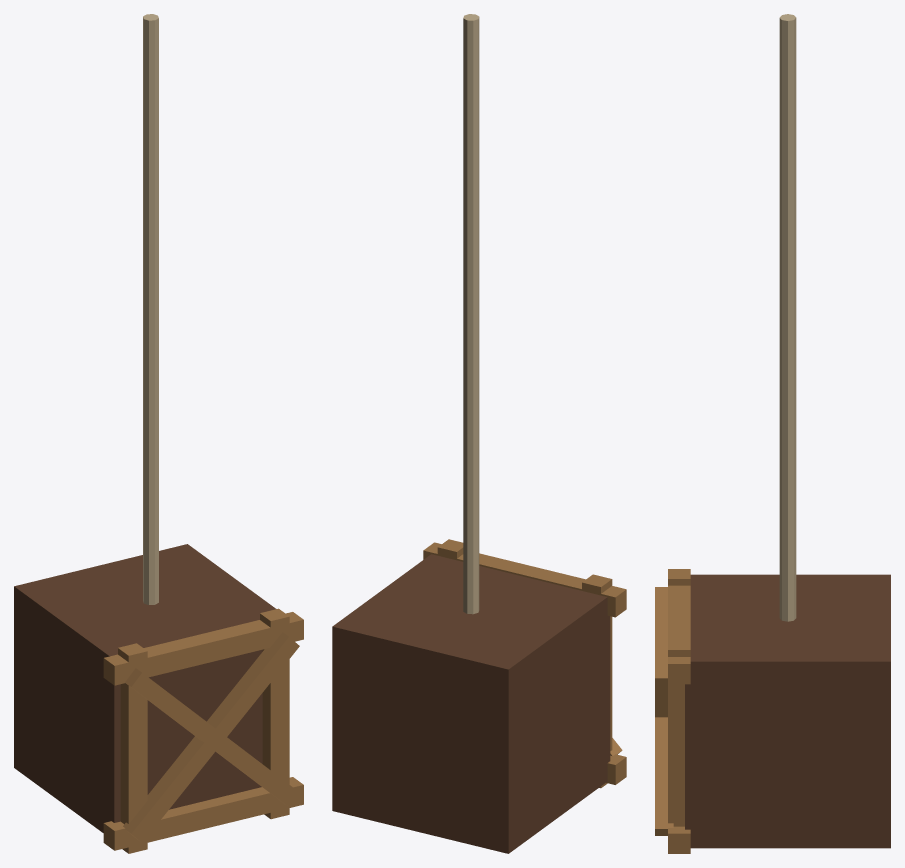
File: PirateCove_CargoSwingWeight_Standard.glb
The picture shows the model from 3 angles, left to right: view 1: azimuth 30°, elevation 25°; view 2: azimuth 150°, elevation 25°; view 3: azimuth 270°, elevation 25°; orthographic projection. The views are drawn at different scales.
Visible parts, largest first — view 1: PirateCove_CargoSwingWeight_Standard; view 2: PirateCove_CargoSwingWeight_Standard; view 3: PirateCove_CargoSwingWeight_Standard.
Part boxes in pixels (bbox=[...]): PirateCove_CargoSwingWeight_Standard: bbox=[14, 14, 303, 853]; PirateCove_CargoSwingWeight_Standard: bbox=[332, 14, 626, 853]; PirateCove_CargoSwingWeight_Standard: bbox=[655, 14, 890, 853].
Size of the model in its own units: 1.2 by 4.69 by 1.26.
